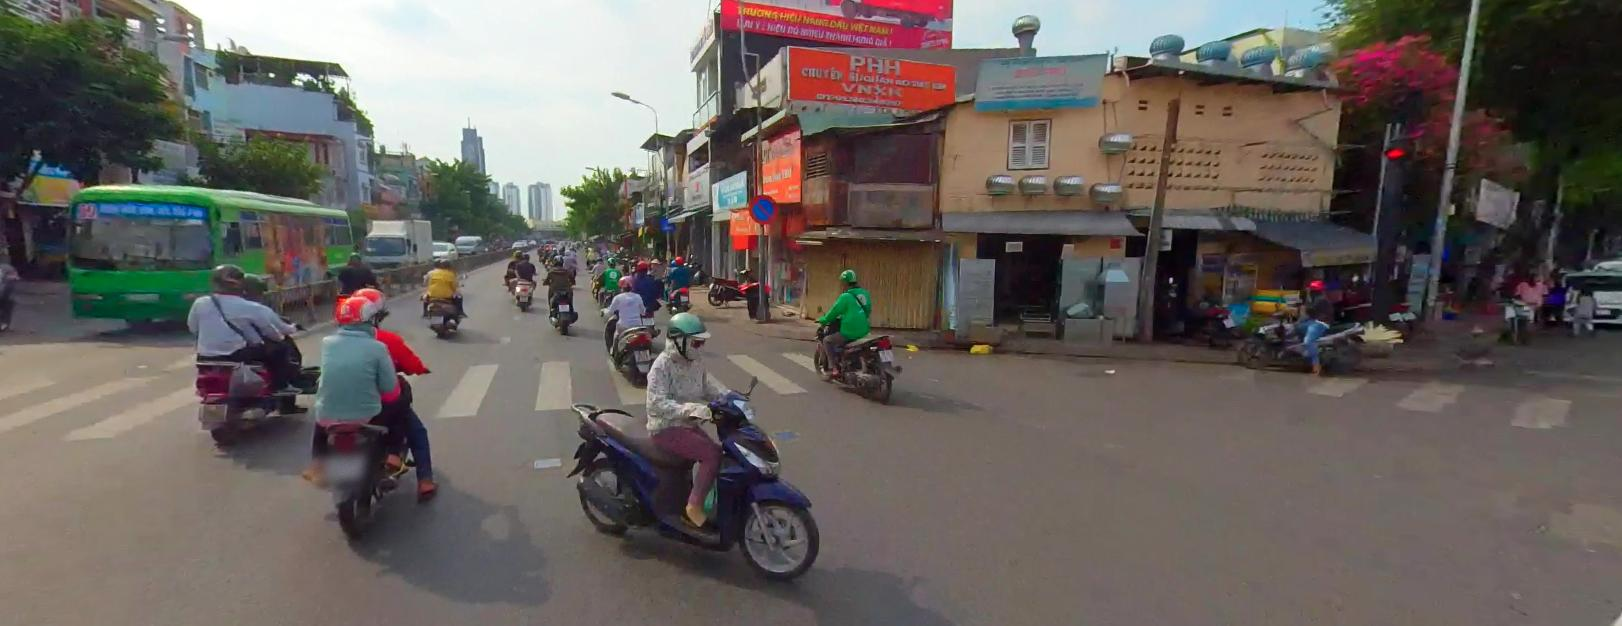Cam dung va do: (747, 193, 777, 223), (748, 193, 777, 222)
